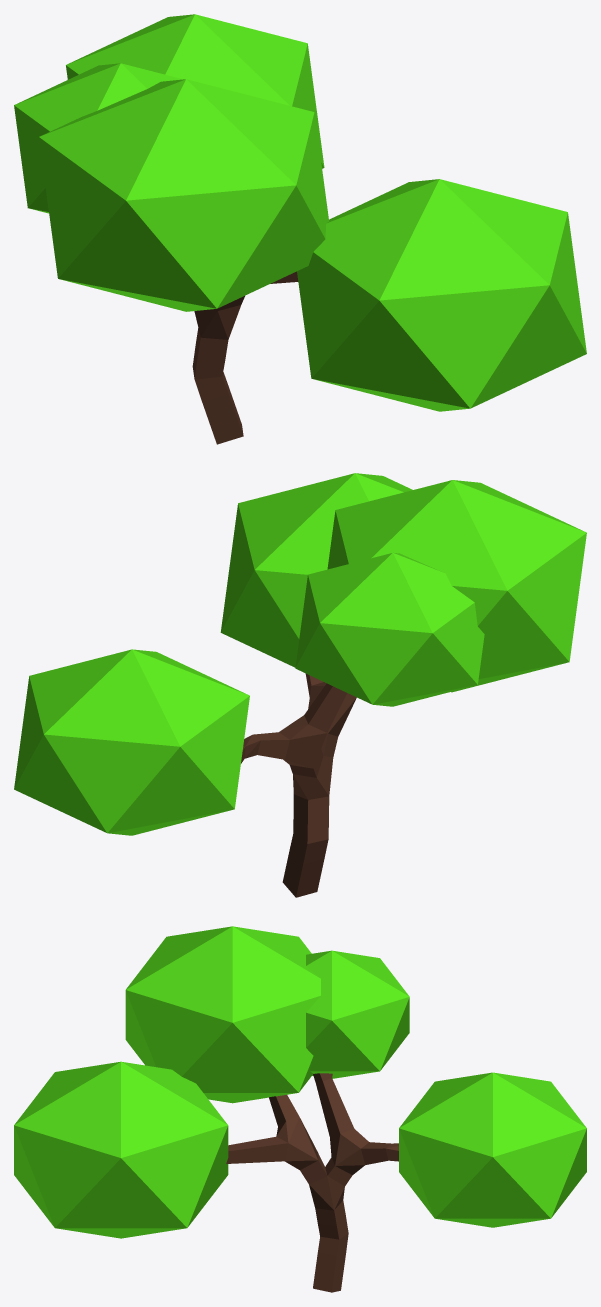
File: Apple_tree_PS1.fbx
3 renders of one model, top to bottom at view 1: azimuth 30°, elevation 25°; view 2: azimuth 150°, elevation 25°; view 3: azimuth 270°, elevation 25°, orthographic. The views are drawn at different scales.
Parts seen in each view (by area): view 1: Icosphere.003, Icosphere.001, Icosphere.002, Icosphere, Cube; view 2: Icosphere.002, Icosphere.003, Icosphere, Icosphere.001, Cube; view 3: Icosphere.001, Icosphere.003, Icosphere.002, Cube, Icosphere.
Boxes of the visible parts, x1=… form: Icosphere.003: x1=39, y1=79, x2=328, y2=311; Icosphere.001: x1=297, y1=179, x2=586, y2=411; Icosphere.002: x1=66, y1=14, x2=324, y2=168; Icosphere: x1=14, y1=63, x2=182, y2=213; Cube: x1=192, y1=271, x2=298, y2=444; Icosphere.002: x1=14, y1=649, x2=249, y2=835; Icosphere.003: x1=327, y1=480, x2=586, y2=692; Icosphere: x1=295, y1=552, x2=484, y2=706; Icosphere.001: x1=220, y1=473, x2=412, y2=667; Cube: x1=241, y1=673, x2=356, y2=897; Icosphere.001: x1=14, y1=1061, x2=228, y2=1238; Icosphere.003: x1=125, y1=926, x2=320, y2=1103; Icosphere.002: x1=399, y1=1072, x2=586, y2=1227; Cube: x1=226, y1=1073, x2=398, y2=1292; Icosphere: x1=306, y1=950, x2=409, y2=1078.
Bounding box in the file's own units: 901 × 848 × 1346.
